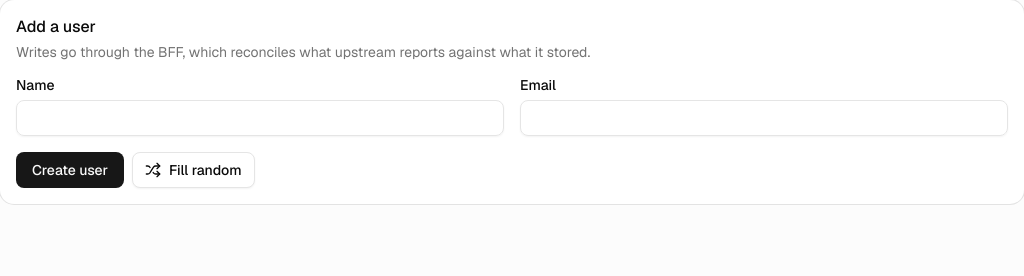
Test: creating a user › confirms a create that upstream confirmed
The image size is (1024, 276).
Type "Grace" into the field labelled "Name". click: x=260, y=118
box: [16,100,504,136]
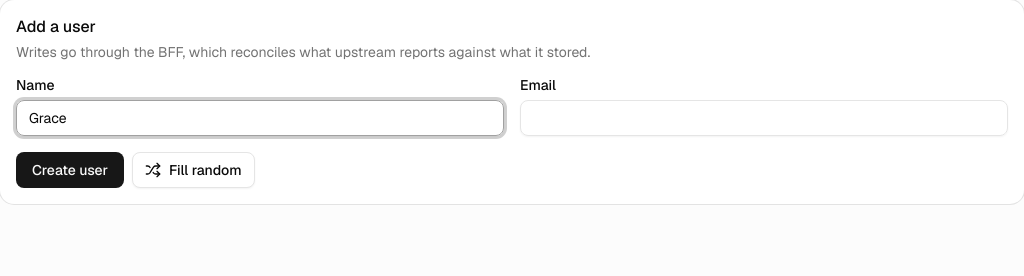
Type "grace@example.com" into the field labelled "Email". click: x=764, y=118
box: [520,100,1008,136]
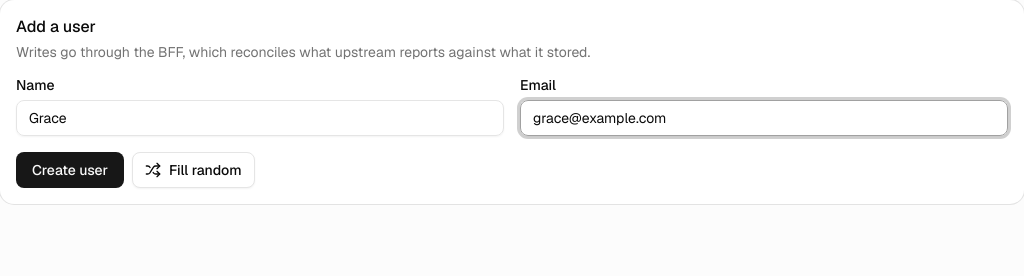
Click the button "Create user". click: x=70, y=170
box: [16,152,124,188]
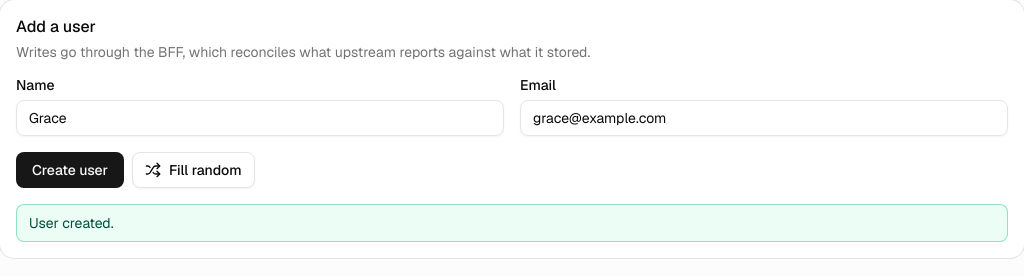
Result: the message reads "User created." at [29,214,114,232]
